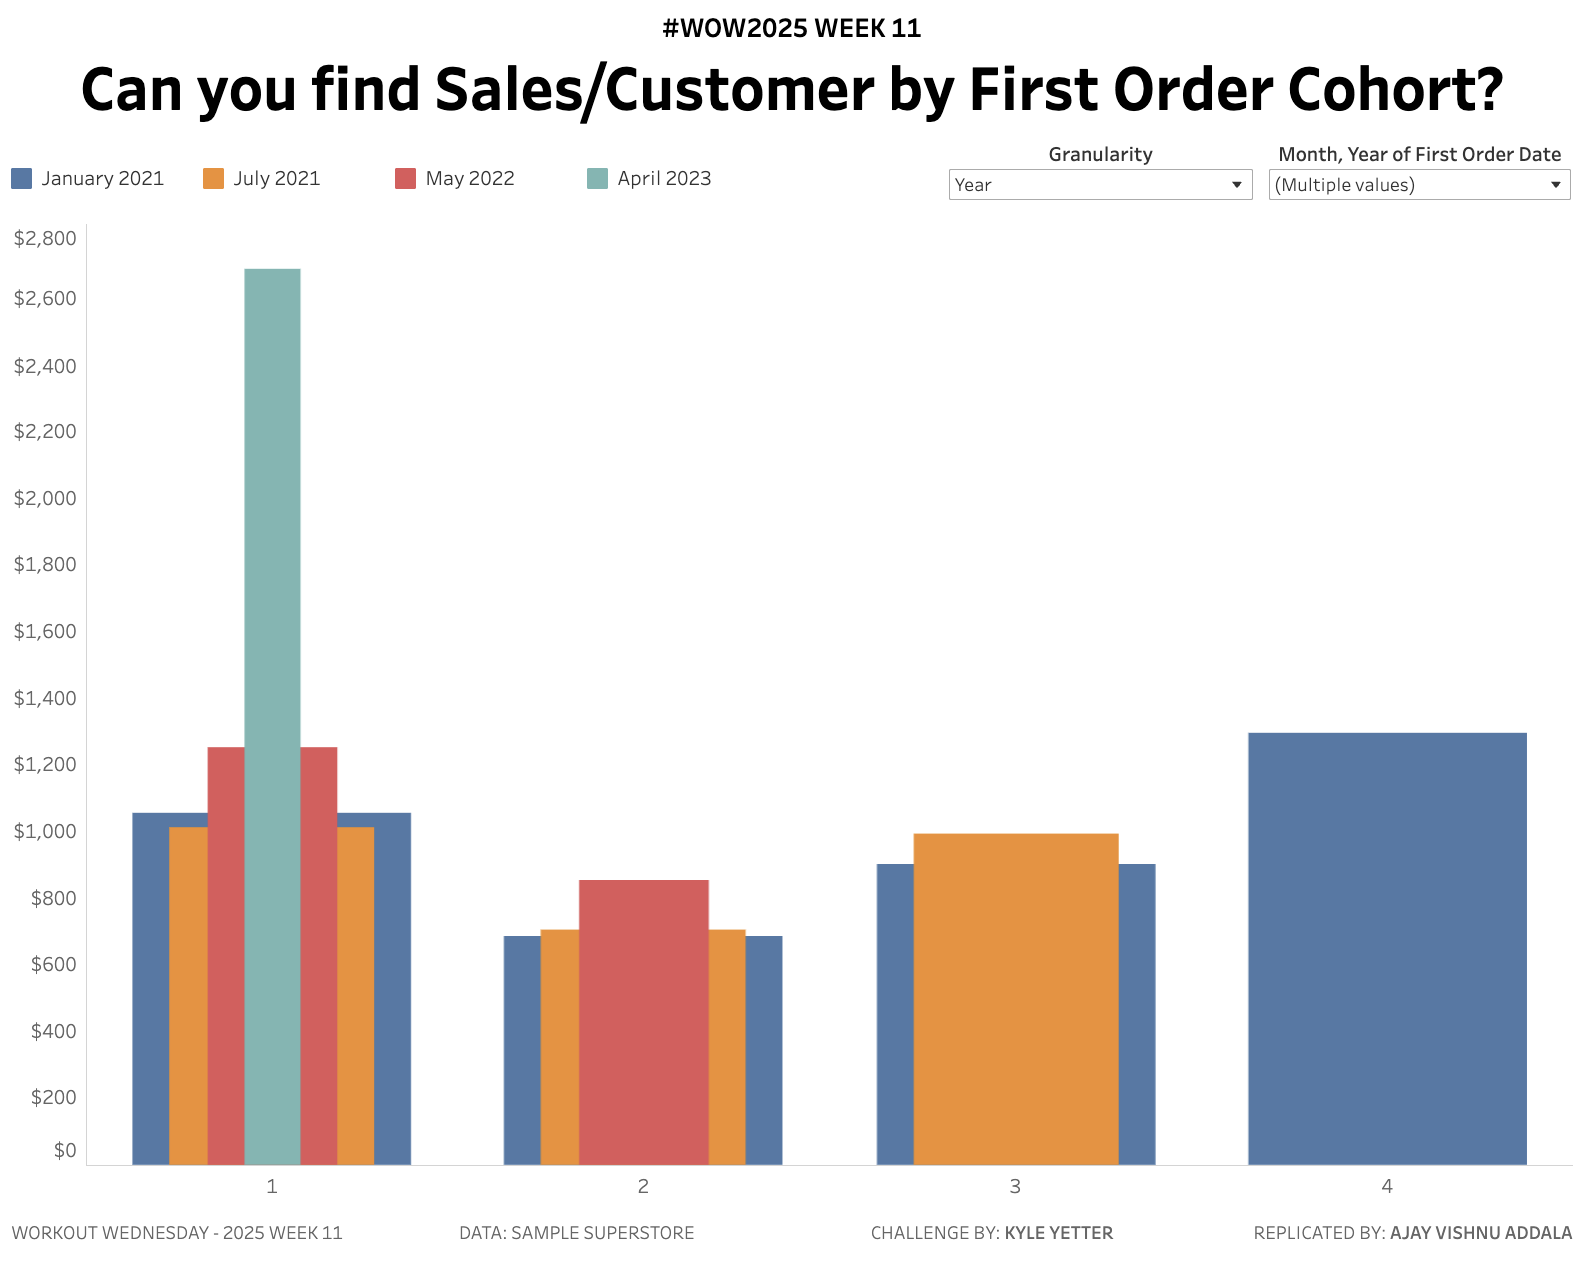

The page's visual inventory and layout, read from the dashboard file:
{"tool":"tableau","page":{"name":"WOW2025 W11","canvas":[1000,800],"ordinal":0},"visuals":[{"type":"text","box":[8,8,984,80]},{"type":"legend","title":"Viz","param":"[federated.1twd5qg1ddrp8817kj7971onkmql].[tmn:First Order Date:ok]","box":[8,91,584,50]},{"type":"parameter","param":"[Parameters].[Parameter 1]","box":[592,91,200,50]},{"type":"filter","title":"Viz","param":"[federated.1twd5qg1ddrp8817kj7971onkmql].[my:First Order Date:ok]","box":[792,91,200,50]},{"type":"worksheet","title":"Viz","mark":"Automatic","rows":["Calculation_1074108568177180675"],"cols":["Calculation_1836624278873751555"],"box":[8,141,984,619]},{"type":"text","box":[8,760,223,32]},{"type":"text","box":[231,760,269,32]},{"type":"text","box":[500,760,250,32]},{"type":"text","box":[750,760,242,32]}]}

Visuals, with their boxes in screenshot pixels (x1, y1, x2, y2), scaled from the page's 1000x800 canvas onto the 1594x1266 screenshot:
text: (13, 13, 1581, 139)
"Viz" legend: (13, 144, 944, 223)
parameter: (944, 144, 1262, 223)
"Viz" filter: (1262, 144, 1581, 223)
"Viz" worksheet: (13, 223, 1581, 1203)
text: (13, 1203, 368, 1253)
text: (368, 1203, 797, 1253)
text: (797, 1203, 1196, 1253)
text: (1196, 1203, 1581, 1253)
